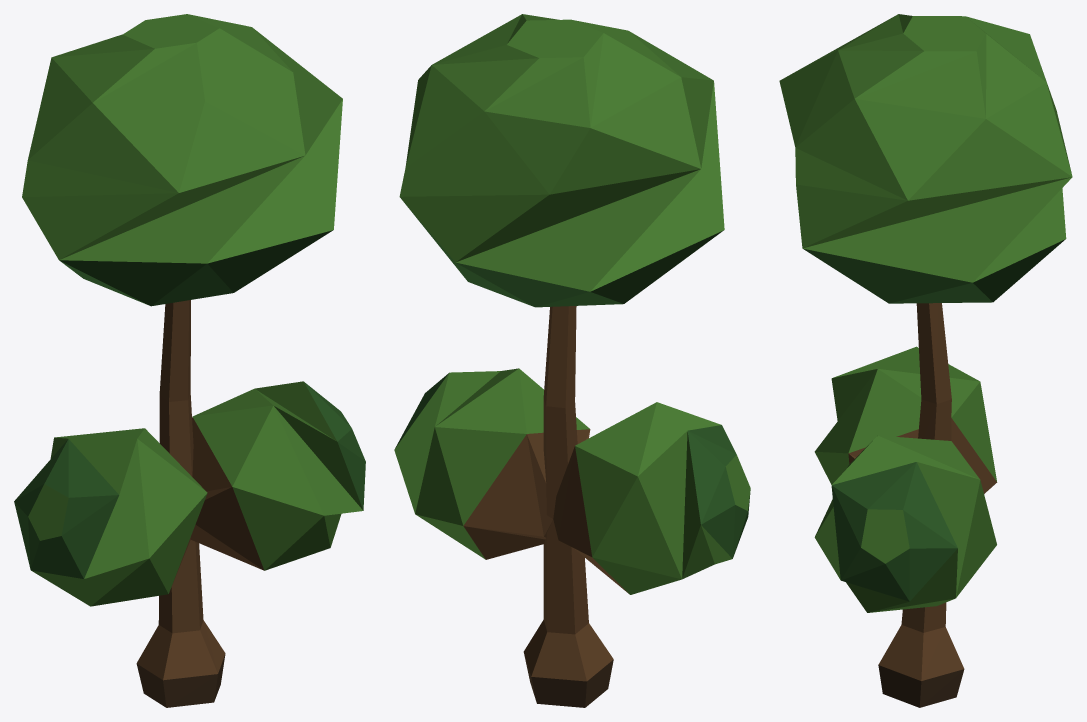
The model's file is sapling.gltf.
The picture shows the model from 3 angles, left to right: view 1: azimuth 30°, elevation 25°; view 2: azimuth 150°, elevation 25°; view 3: azimuth 270°, elevation 25°; orthographic projection.
Visible parts, largest first — view 1: sapling; view 2: sapling; view 3: sapling.
Boxes of the visible parts, x1=… form: sapling: x1=14, y1=14, x2=365, y2=707; sapling: x1=394, y1=14, x2=750, y2=707; sapling: x1=779, y1=14, x2=1072, y2=707.
Bounding box in the file's own units: 0.2083 × 0.4051 × 0.163.
